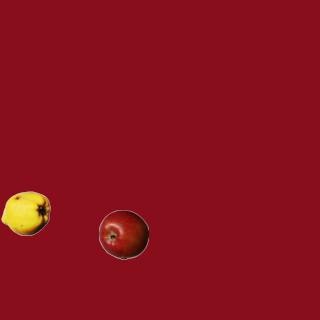Apple Braeburn: (98, 209, 148, 259)
Quince: (0, 188, 50, 238)
